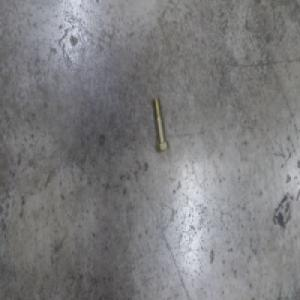Bolt: (151, 97, 168, 154)
